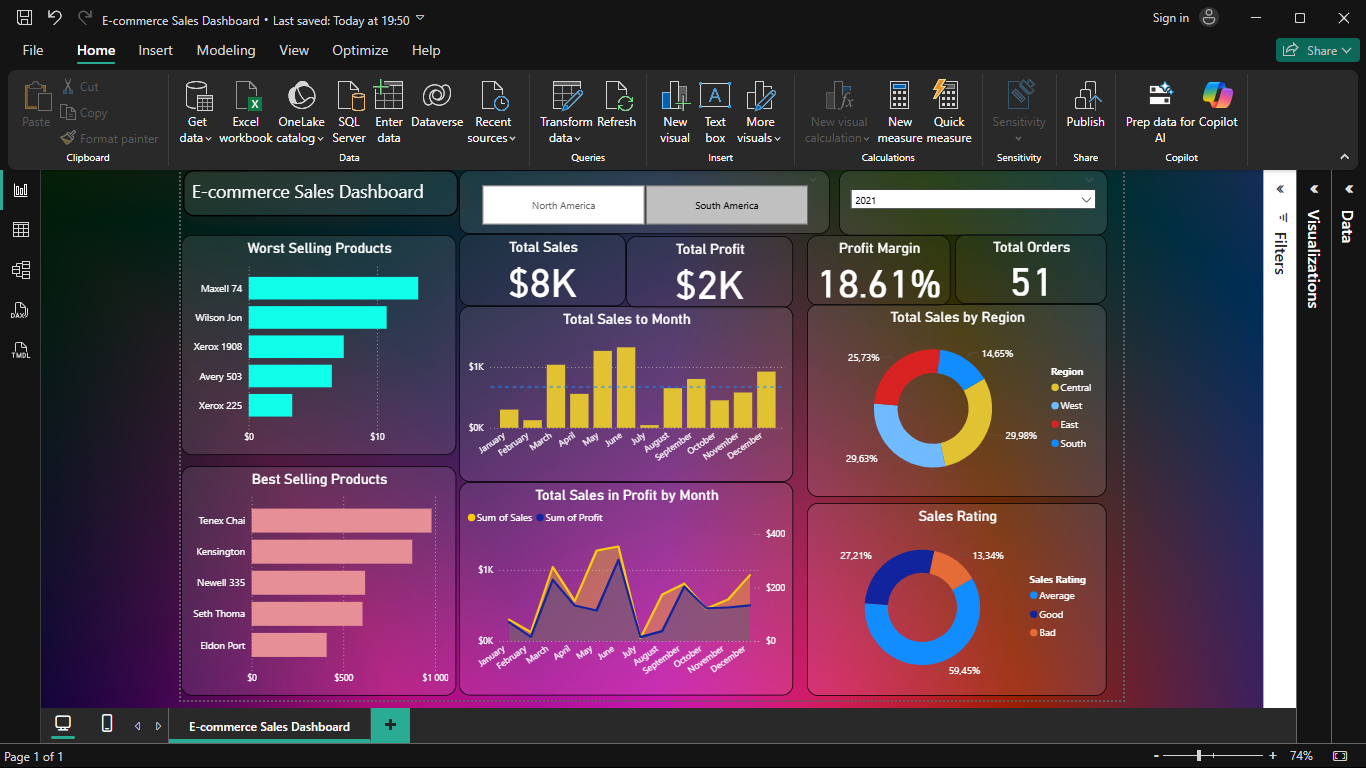

The dashboard page shown, as its layout file describes it:
{"tool":"powerbi","page":{"name":"E-commerce Sales Dashboard","canvas":[1280,720],"ordinal":0},"visuals":[{"type":"textbox","box":[2.8,0,374.4,63.3],"z":0},{"type":"card","title":"Total Sales","fields":{"Values":["Sum(E-commerce Data.Sales)"]},"box":[377.1,86.7,227.1,97.7],"z":1000},{"type":"card","title":"Total Profit","fields":{"Values":["Sum(E-commerce Data.Profit)"]},"box":[604.2,89.5,227.1,97.7],"z":2000},{"type":"card","title":"Total Orders","fields":{"Values":["Count(E-commerce Data.Order ID)"]},"box":[1051.5,86.7,206.5,95],"z":3000},{"type":"card","title":"Profit Margin","fields":{"Values":["E-commerce Data.Profit Margin"]},"box":[850.6,88.1,195.4,96.3],"z":4000},{"type":"donutChart","title":"Total Sales by Region","fields":{"Category":["E-commerce Data.Region"],"Y":["Sum(E-commerce Data.Sales)"]},"box":[850.6,181.7,407.4,261.5],"z":5000},{"type":"clusteredColumnChart","title":"Total Sales to Month","fields":{"Category":["E-commerce Data.Purchase Date.Variation.Date Hierarchy.Month"],"Y":["Sum(E-commerce Data.Sales)"]},"box":[377.1,184.4,454.2,239.5],"z":6000},{"type":"lineChart","title":"Total Sales in Profit by Month","fields":{"Category":["E-commerce Data.Purchase Date.Variation.Date Hierarchy.Month"],"Y":["Sum(E-commerce Data.Sales)"],"Y2":["Sum(E-commerce Data.Profit)"]},"box":[377.1,423.9,454.2,290.4],"z":7000},{"type":"barChart","title":"Best Selling Products","fields":{"Y":["Sum(E-commerce Data.Sales)"],"Category":["E-commerce Data.Product Name"]},"box":[0,401.9,374.4,312.4],"z":8000},{"type":"barChart","title":"Worst Selling Products","fields":{"Y":["Sum(E-commerce Data.Sales)"],"Category":["E-commerce Data.Product Name"]},"box":[0,88.1,374.4,298.7],"z":9000},{"type":"slicer","fields":{"Values":["E-commerce Data.Country (groups)"]},"box":[377.1,0,503.7,86.7],"z":10000},{"type":"slicer","fields":{"Values":["E-commerce Data.Purchase Date.Variation.Date Hierarchy.Year"]},"box":[893.2,0,364.7,89.5],"z":11000},{"type":"donutChart","title":"Sales Rating","fields":{"Category":["E-commerce Data.Sales Rating"],"Y":["Sum(E-commerce Data.Sales)"]},"box":[850.6,452.8,407.4,261.5],"z":12000}]}

Visuals, with their boxes on the page's 1280x720 design canvas (x1, y1, x2, y2). These are canvas units, not pixel positions in the 1366x768 screenshot, which may show the page scaled, cropped or inside an application window:
textbox: box(3, 0, 377, 63)
"Total Sales" card: box(377, 87, 604, 184)
"Total Profit" card: box(604, 90, 831, 187)
"Total Orders" card: box(1052, 87, 1258, 182)
"Profit Margin" card: box(851, 88, 1046, 184)
"Total Sales by Region" donutChart: box(851, 182, 1258, 443)
"Total Sales to Month" clusteredColumnChart: box(377, 184, 831, 424)
"Total Sales in Profit by Month" lineChart: box(377, 424, 831, 714)
"Best Selling Products" barChart: box(0, 402, 374, 714)
"Worst Selling Products" barChart: box(0, 88, 374, 387)
slicer - E-commerce Data.Country (groups): box(377, 0, 881, 87)
slicer - E-commerce Data.Purchase Date.Variation.Date Hierarchy.Year: box(893, 0, 1258, 90)
"Sales Rating" donutChart: box(851, 453, 1258, 714)
